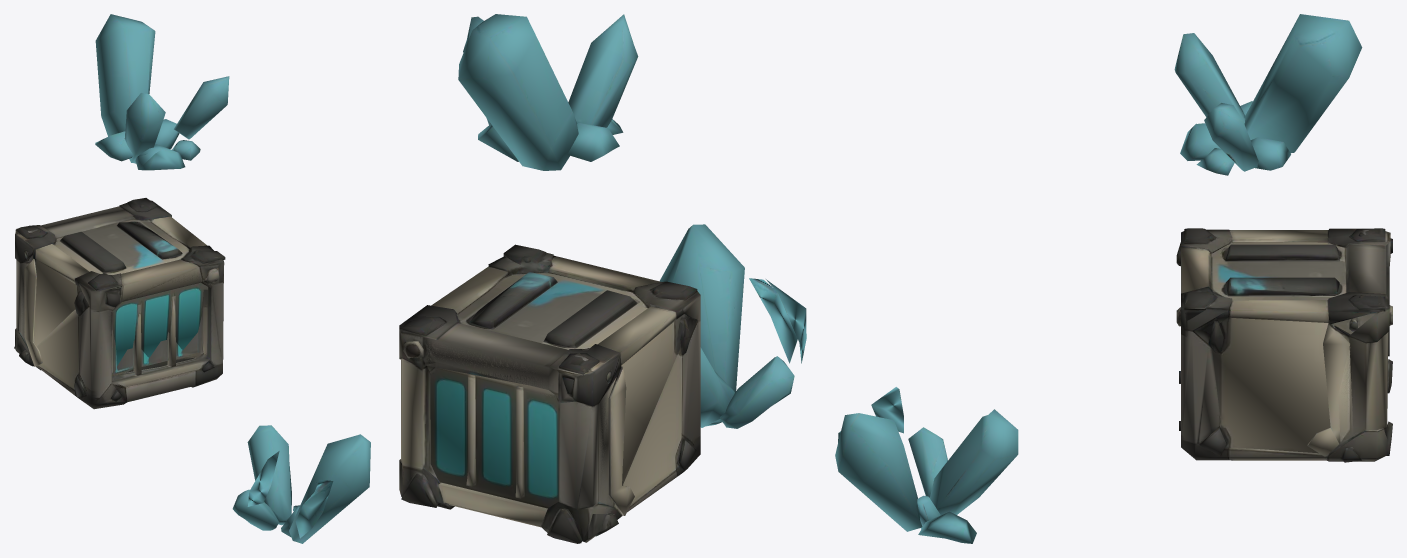
The model's file is energy-crate-low.glb.
The picture shows the model from 3 angles, left to right: view 1: azimuth 30°, elevation 25°; view 2: azimuth 150°, elevation 25°; view 3: azimuth 270°, elevation 25°; orthographic projection. The views are drawn at different scales.
Parts seen in each view (by area): view 1: energy-crate; view 2: energy-crate; view 3: energy-crate.
Boxes of the visible parts, bbox=[...] form: energy-crate: bbox=[14, 14, 370, 543]; energy-crate: bbox=[399, 14, 806, 543]; energy-crate: bbox=[835, 14, 1392, 543].
Bounding box in the file's own units: 0.4012 × 1 × 1.
Materials: 1 (1 with a texture image).
